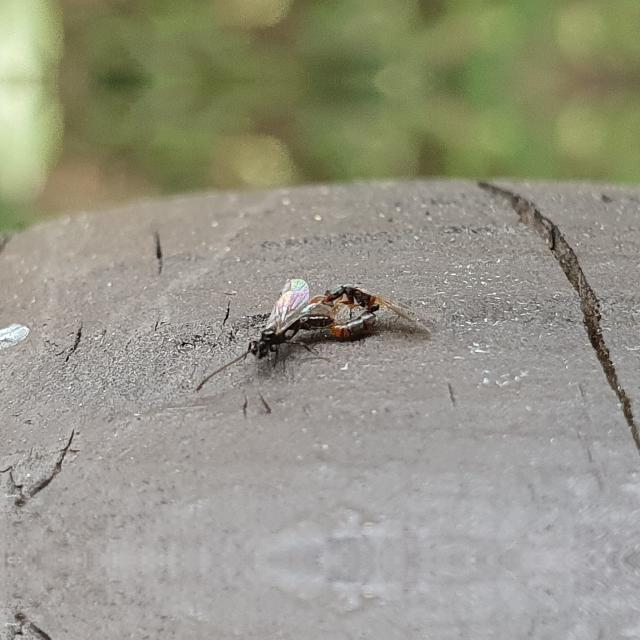Ponera: (226, 292, 344, 368), (314, 275, 434, 345)
